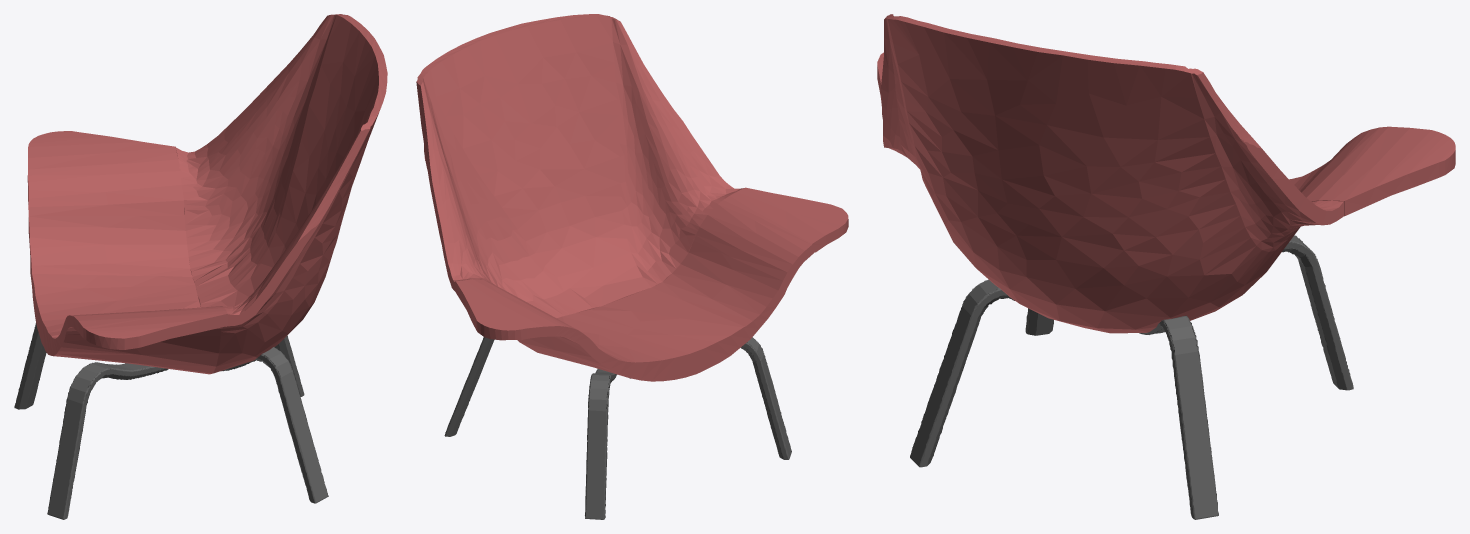
3 renders of one model, left to right at view 1: azimuth 30°, elevation 25°; view 2: azimuth 150°, elevation 25°; view 3: azimuth 270°, elevation 25°, orthographic. The views are drawn at different scales.
Bounding box in the file's own units: 0.8715 × 0.8829 × 0.9681.
